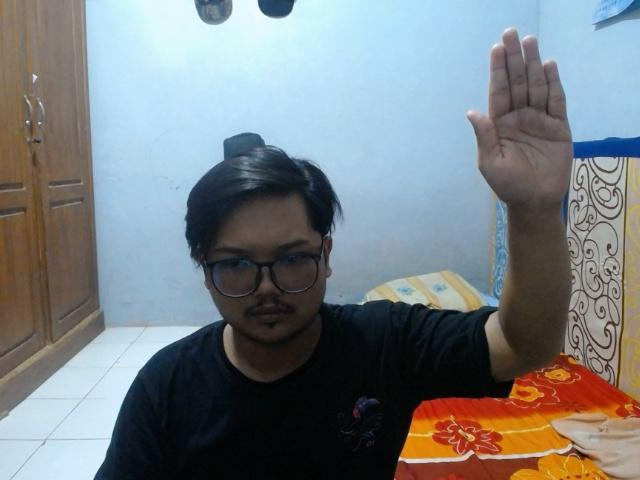Release: (462, 22, 577, 213)
